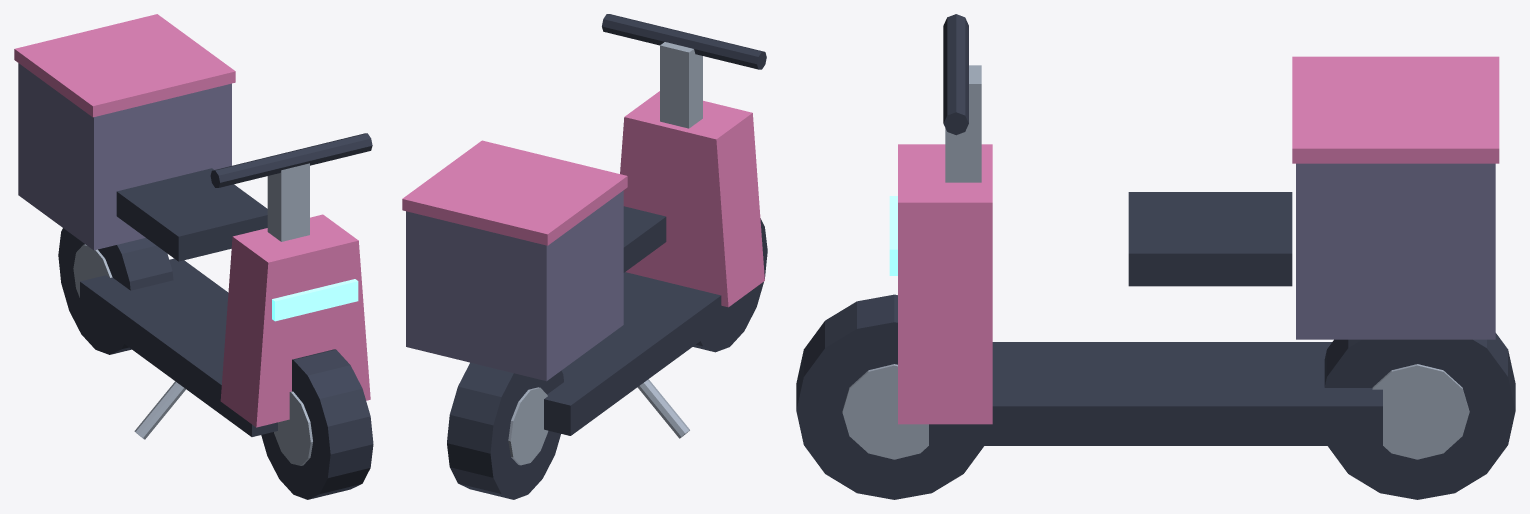
The model's file is neon-dispatch-electric-cargo-scooter__173.glb.
The picture shows the model from 3 angles, left to right: view 1: azimuth 30°, elevation 25°; view 2: azimuth 150°, elevation 25°; view 3: azimuth 270°, elevation 25°; orthographic projection. The views are drawn at different scales.
Visible parts, largest first — view 1: dark, accent, shell, metal, light; view 2: accent, dark, shell, metal; view 3: dark, accent, shell, metal.
Part boxes in pixels (x1=…): dark: x1=58, y1=133, x2=373, y2=499; accent: x1=14, y1=14, x2=370, y2=427; shell: x1=18, y1=63, x2=231, y2=250; metal: x1=73, y1=163, x2=312, y2=465; light: x1=272, y1=279, x2=358, y2=321; accent: x1=402, y1=91, x2=764, y2=307; dark: x1=447, y1=14, x2=767, y2=499; shell: x1=406, y1=190, x2=623, y2=381; metal: x1=508, y1=42, x2=702, y2=465; dark: x1=796, y1=14, x2=1515, y2=499; accent: x1=898, y1=56, x2=1499, y2=424; shell: x1=1296, y1=163, x2=1495, y2=339; metal: x1=842, y1=65, x2=1469, y2=459.
Size of the model in its own units: 0.6571 by 1.3 by 1.98.
